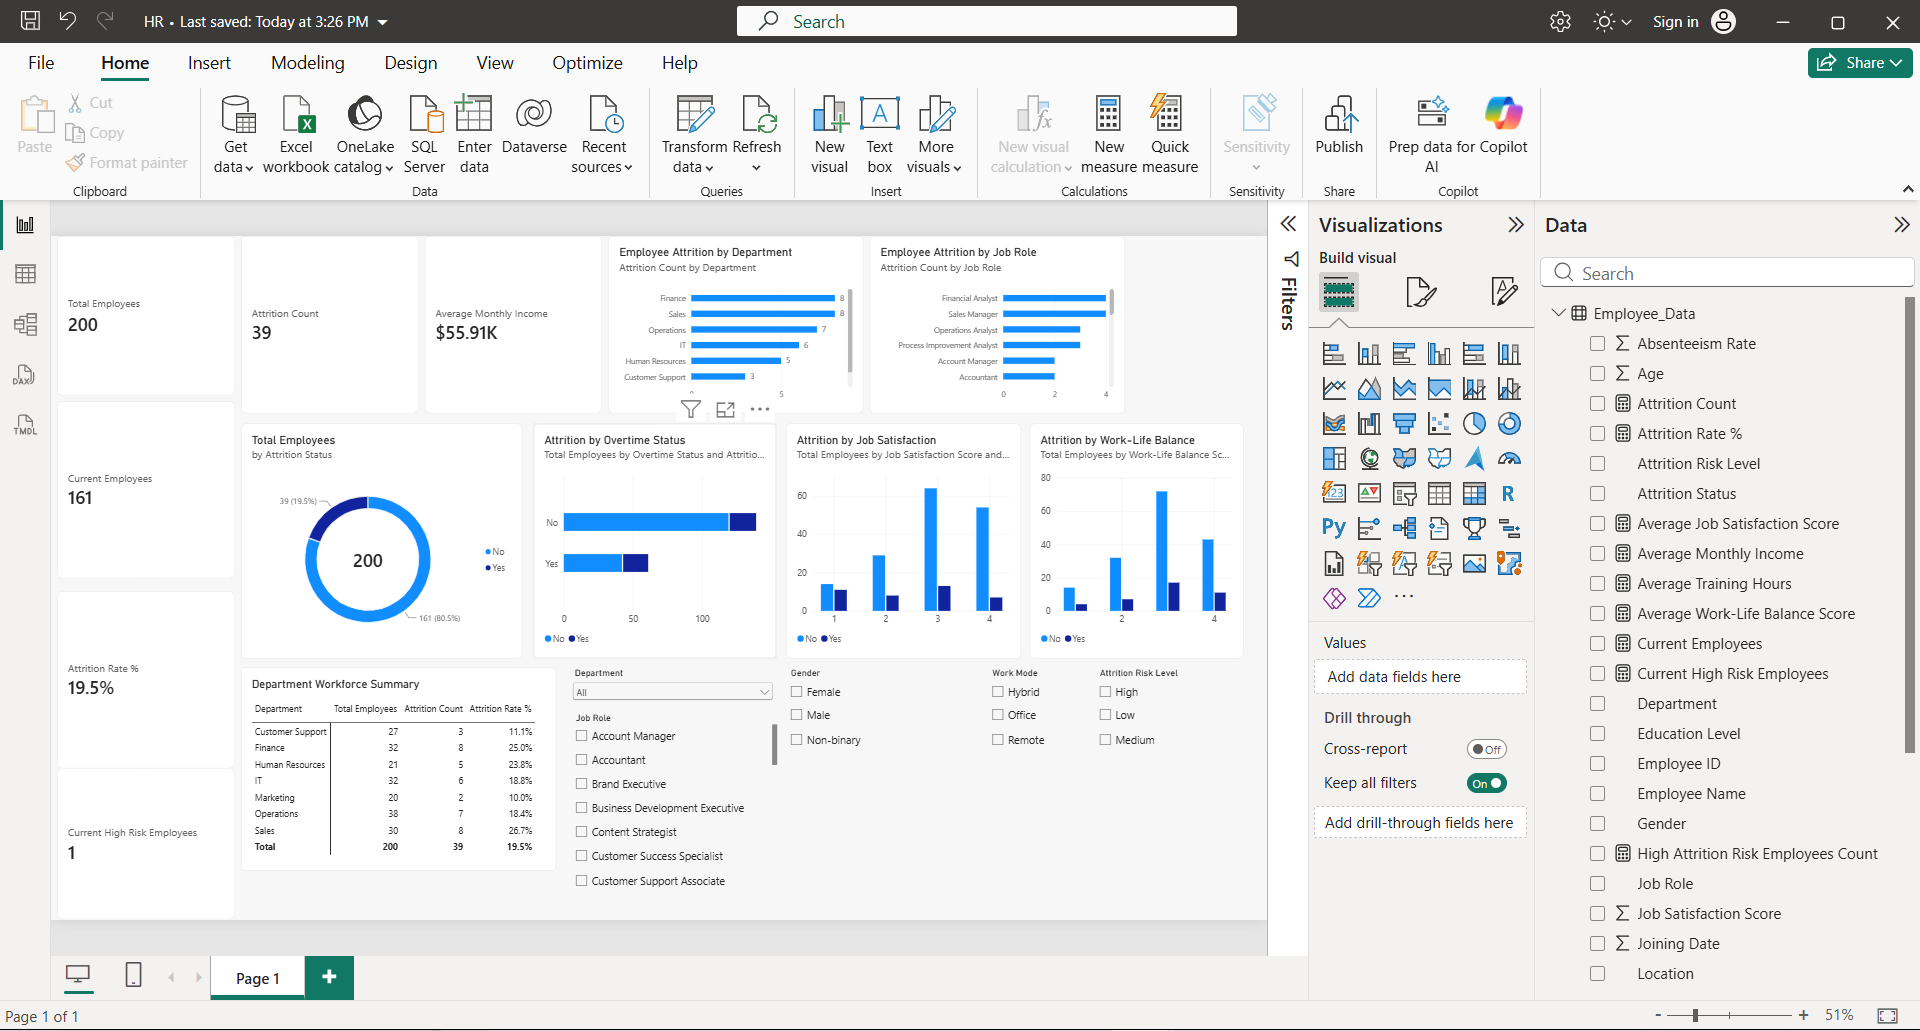

Layout of this report page (visuals, bound fields, positions):
{"tool":"powerbi","page":{"name":"Page 1","canvas":[1920,1080],"ordinal":0},"visuals":[{"type":"cardVisual","fields":{"Data":["Employee_Data.Total Employees"]},"box":[9.9,0,280.3,252.6],"z":0},{"type":"cardVisual","fields":{"Data":["Employee_Data.Current Employees"]},"box":[9.9,260.5,280,280],"z":1},{"type":"cardVisual","fields":{"Data":["Employee_Data.Attrition Rate %"]},"box":[9.9,560.5,280,280],"z":2},{"type":"cardVisual","fields":{"Data":["Employee_Data.Current High Risk Employees"]},"box":[9.9,840.8,280.3,238.8],"z":3},{"type":"cardVisual","fields":{"Data":["Employee_Data.Attrition Count"]},"box":[300,0,280,280],"z":4},{"type":"cardVisual","fields":{"Data":["Employee_Data.Average Monthly Income"]},"box":[590,0,280,280],"z":5},{"type":"clusteredBarChart","title":"Employee Attrition by Department","fields":{"Category":["Employee_Data.Department"],"Y":["Employee_Data.Attrition Count"]},"box":[880.3,0,402.6,280.3],"z":6},{"type":"clusteredBarChart","title":"Employee Attrition by Job Role","fields":{"Category":["Employee_Data.Job Role"],"Y":["Employee_Data.Attrition Count"]},"box":[1293,0,403,280],"z":7},{"type":"donutChart","fields":{"Category":["Employee_Data.Attrition Status"],"Y":["Employee_Data.Total Employees"]},"box":[300,296.1,444.1,371.1],"z":8},{"type":"barChart","title":"Attrition by Overtime Status","fields":{"Category":["Employee_Data.Overtime Status"],"Series":["Employee_Data.Attrition Status"],"Y":["Employee_Data.Total Employees"]},"box":[761.8,296.1,382.9,371.1],"z":9},{"type":"clusteredColumnChart","title":"Attrition by Job Satisfaction","fields":{"Category":["Employee_Data.Job Satisfaction Score"],"Series":["Employee_Data.Attrition Status"],"Y":["Employee_Data.Total Employees"]},"box":[1160.5,296.1,371.1,371.1],"z":10},{"type":"clusteredColumnChart","title":"Attrition by Work-Life Balance","fields":{"Category":["Employee_Data.Work-Life Balance Score"],"Series":["Employee_Data.Attrition Status"],"Y":["Employee_Data.Total Employees"]},"box":[1545.4,296.1,337.5,371.1],"z":11},{"type":"pivotTable","title":"Department Workforce Summary","fields":{"Rows":["Employee_Data.Department"],"Values":["Employee_Data.Total Employees","Employee_Data.Attrition Count","Employee_Data.Attrition Rate %"]},"box":[300,680.9,497.4,321.7],"z":12},{"type":"slicer","fields":{"Values":["Employee_Data.Department"]},"box":[819.1,680.9,325.7,82.9],"z":13},{"type":"slicer","fields":{"Values":["Employee_Data.Gender"]},"box":[1160.5,680.9,303.9,142.1],"z":14},{"type":"slicer","fields":{"Values":["Employee_Data.Work Mode"]},"box":[1478.3,680.9,302,159.9],"z":15},{"type":"slicer","fields":{"Values":["Employee_Data.Job Role"]},"box":[821.1,752,325.7,280.3],"z":16},{"type":"slicer","fields":{"Values":["Employee_Data.Attrition Risk Level"]},"box":[1648,680.9,187.5,140.1],"z":17}]}

Visuals, with their boxes on the page's 1920x1080 design canvas (x1, y1, x2, y2). These are canvas units, not pixel positions in the 1920x1031 screenshot, which may show the page scaled, cropped or inside an application window:
cardVisual - Employee_Data.Total Employees: (left=10, top=0, right=290, bottom=253)
cardVisual - Employee_Data.Current Employees: (left=10, top=260, right=290, bottom=540)
cardVisual - Employee_Data.Attrition Rate %: (left=10, top=560, right=290, bottom=840)
cardVisual - Employee_Data.Current High Risk Employees: (left=10, top=841, right=290, bottom=1080)
cardVisual - Employee_Data.Attrition Count: (left=300, top=0, right=580, bottom=280)
cardVisual - Employee_Data.Average Monthly Income: (left=590, top=0, right=870, bottom=280)
"Employee Attrition by Department" clusteredBarChart: (left=880, top=0, right=1283, bottom=280)
"Employee Attrition by Job Role" clusteredBarChart: (left=1293, top=0, right=1696, bottom=280)
donutChart - Employee_Data.Attrition Status x Employee_Data.Total Employees: (left=300, top=296, right=744, bottom=667)
"Attrition by Overtime Status" barChart: (left=762, top=296, right=1145, bottom=667)
"Attrition by Job Satisfaction" clusteredColumnChart: (left=1160, top=296, right=1532, bottom=667)
"Attrition by Work-Life Balance" clusteredColumnChart: (left=1545, top=296, right=1883, bottom=667)
"Department Workforce Summary" pivotTable: (left=300, top=681, right=797, bottom=1003)
slicer - Employee_Data.Department: (left=819, top=681, right=1145, bottom=764)
slicer - Employee_Data.Gender: (left=1160, top=681, right=1464, bottom=823)
slicer - Employee_Data.Work Mode: (left=1478, top=681, right=1780, bottom=841)
slicer - Employee_Data.Job Role: (left=821, top=752, right=1147, bottom=1032)
slicer - Employee_Data.Attrition Risk Level: (left=1648, top=681, right=1836, bottom=821)
